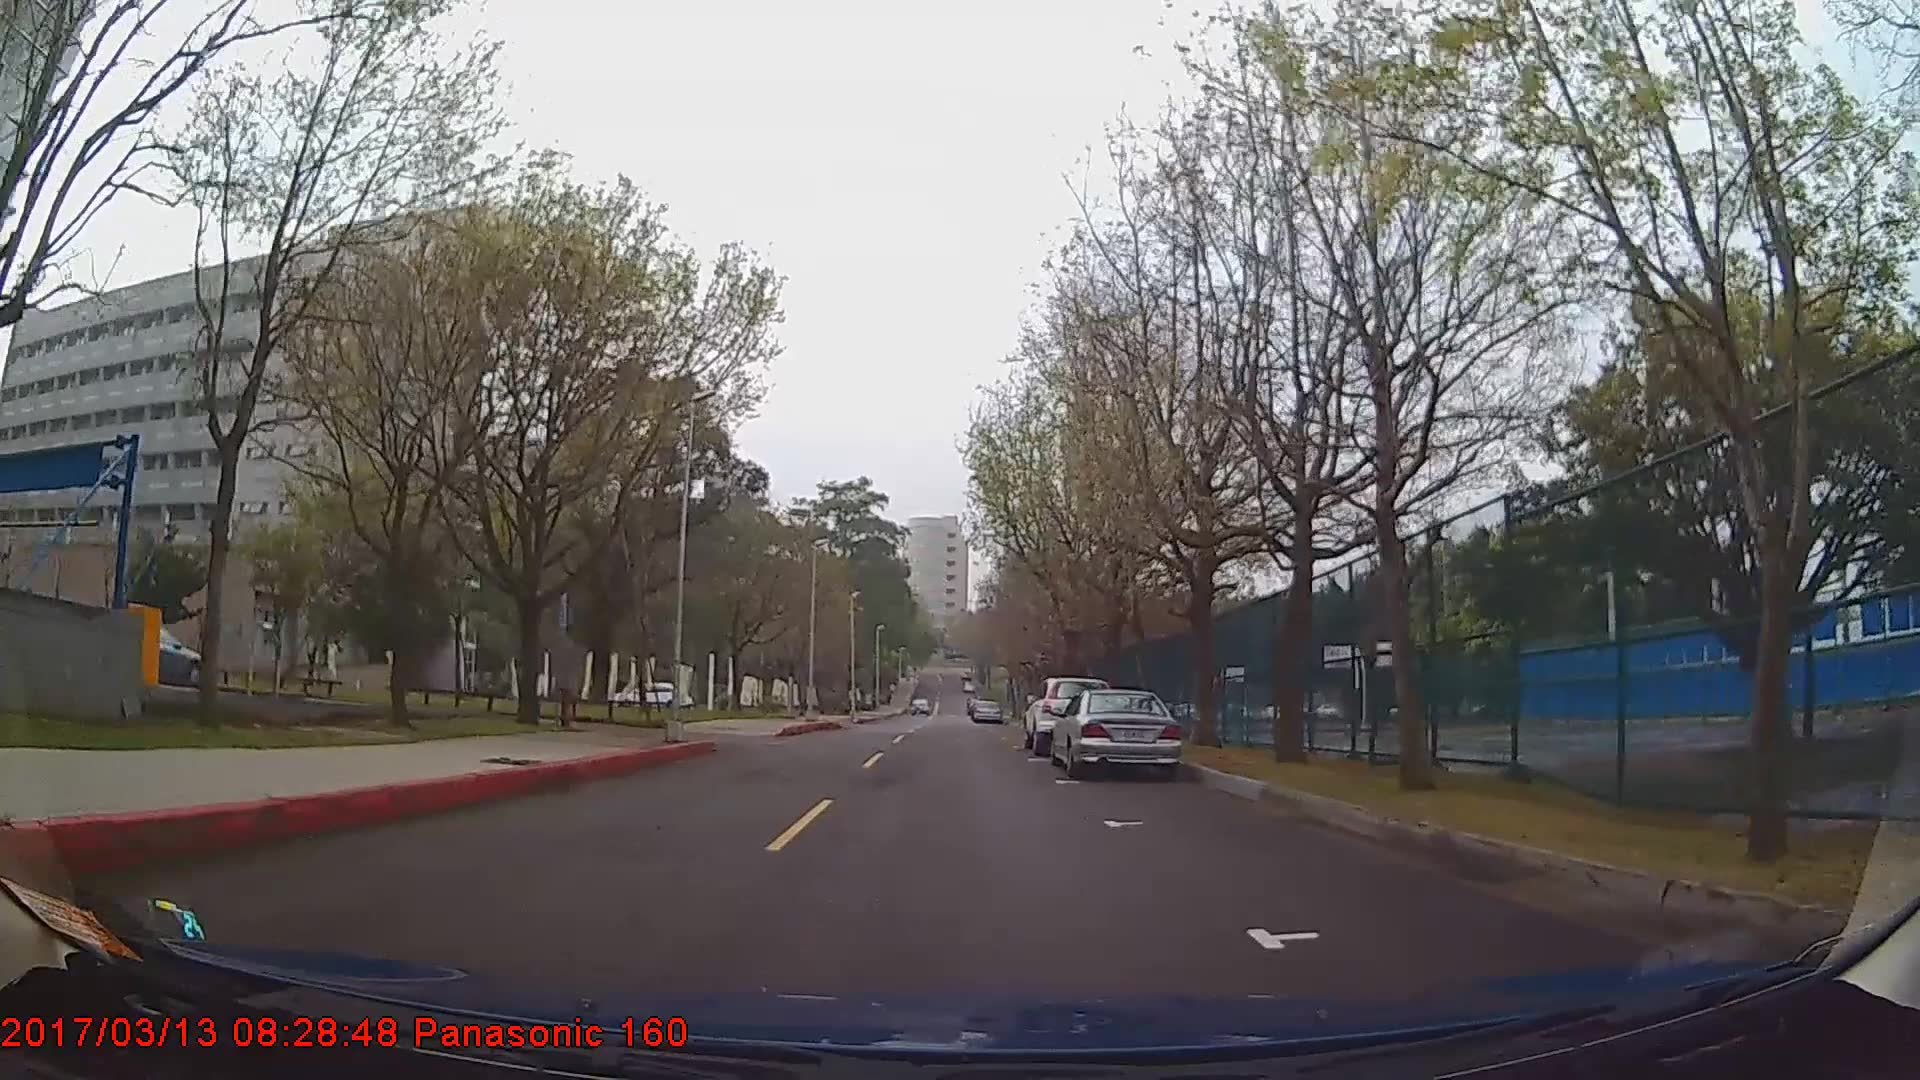vehicle: (1048, 686, 1183, 775), (94, 617, 210, 687), (1025, 670, 1113, 749), (612, 679, 695, 709)
